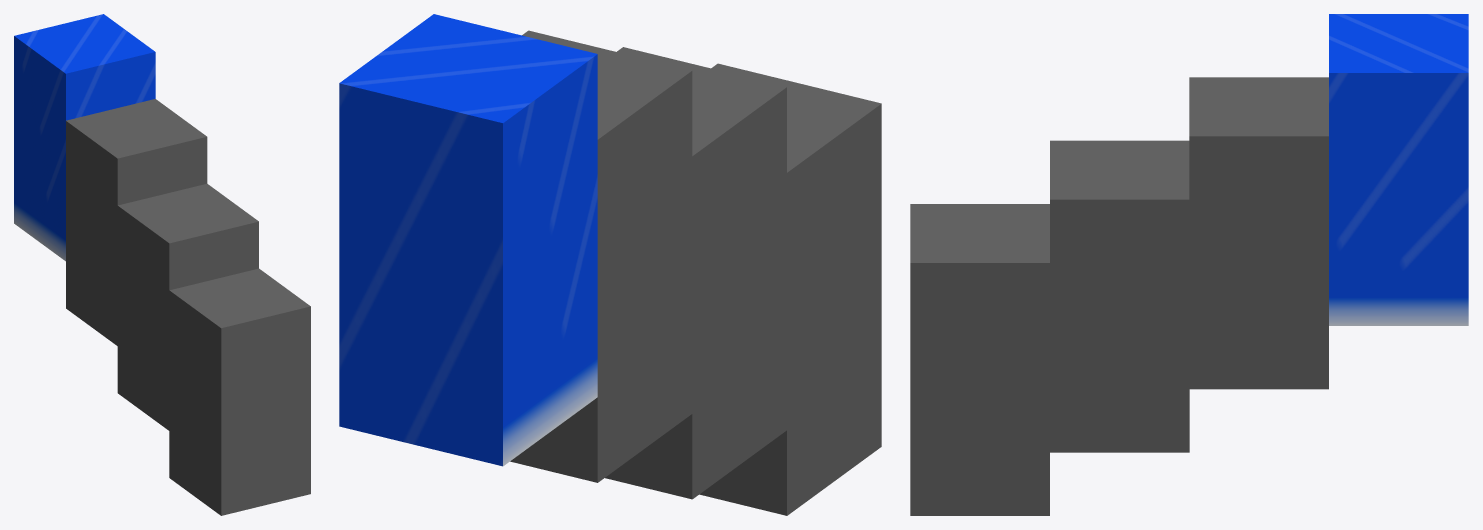
File: fuck.fbx
3 renders of one model, left to right at view 1: azimuth 30°, elevation 25°; view 2: azimuth 150°, elevation 25°; view 3: azimuth 270°, elevation 25°, orthographic. The views are drawn at different scales.
Visible parts, largest first — view 1: pCube4, pCube3, pCube1, pCube2; view 2: pCube1, pCube2, pCube3, pCube4; view 3: pCube2, pCube3, pCube1, pCube4.
Boxes of the visible parts, <box> form: pCube4: <box>169,268,310,515</box>; pCube3: <box>117,183,258,430</box>; pCube1: <box>14,14,155,261</box>; pCube2: <box>66,99,207,345</box>; pCube1: <box>339,14,597,466</box>; pCube2: <box>510,30,692,482</box>; pCube3: <box>605,47,786,499</box>; pCube4: <box>699,63,881,515</box>; pCube2: <box>1189,77,1328,389</box>; pCube3: <box>1050,140,1189,452</box>; pCube1: <box>1329,14,1468,325</box>; pCube4: <box>910,204,1049,515</box>.
Size of the model in its own units: 2 by 7 by 8.
